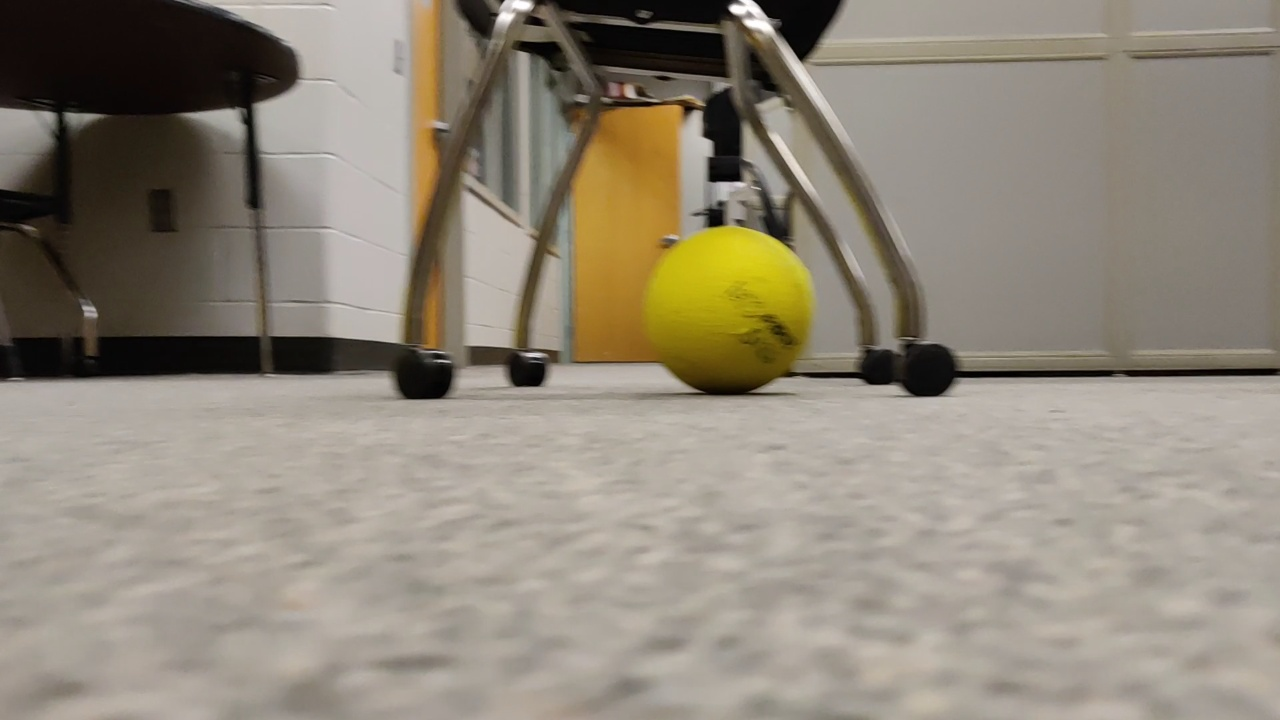Ball: (649, 224, 822, 392)
